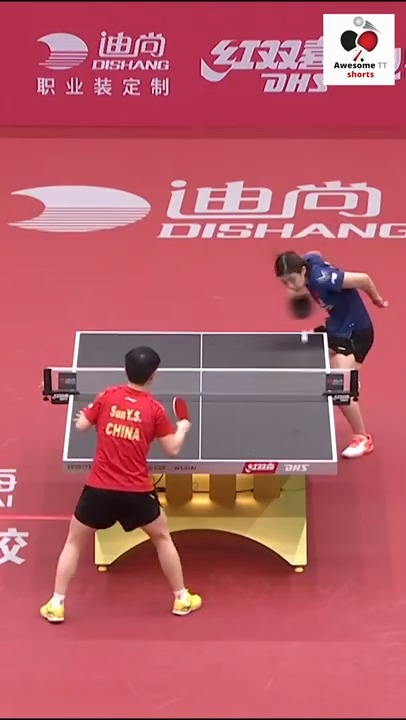Ball: (299, 332, 310, 342)
